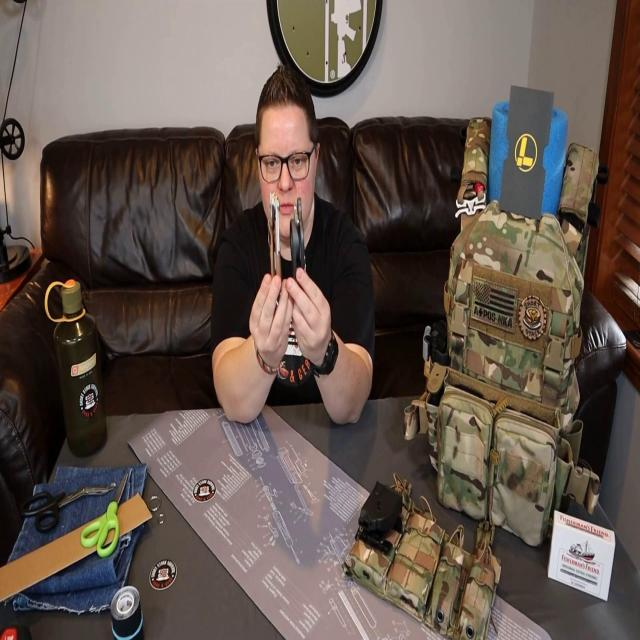scissor: (20, 480, 117, 532), (81, 472, 128, 559)
